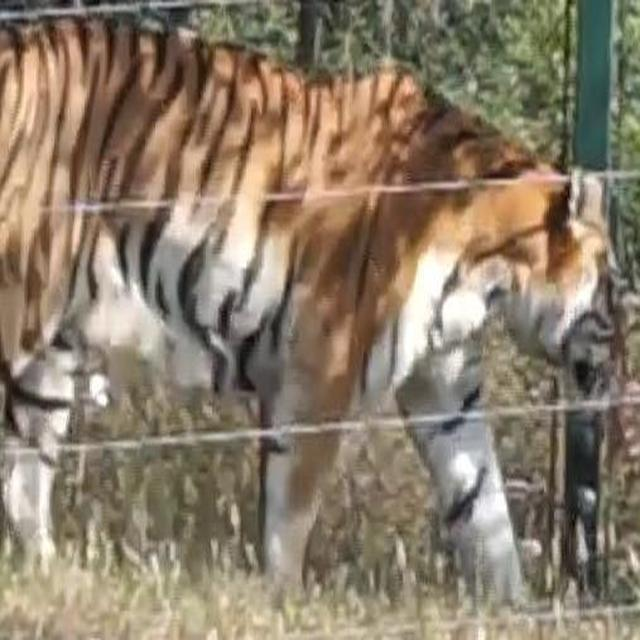tiger: (1, 17, 630, 606), (255, 103, 624, 610)
